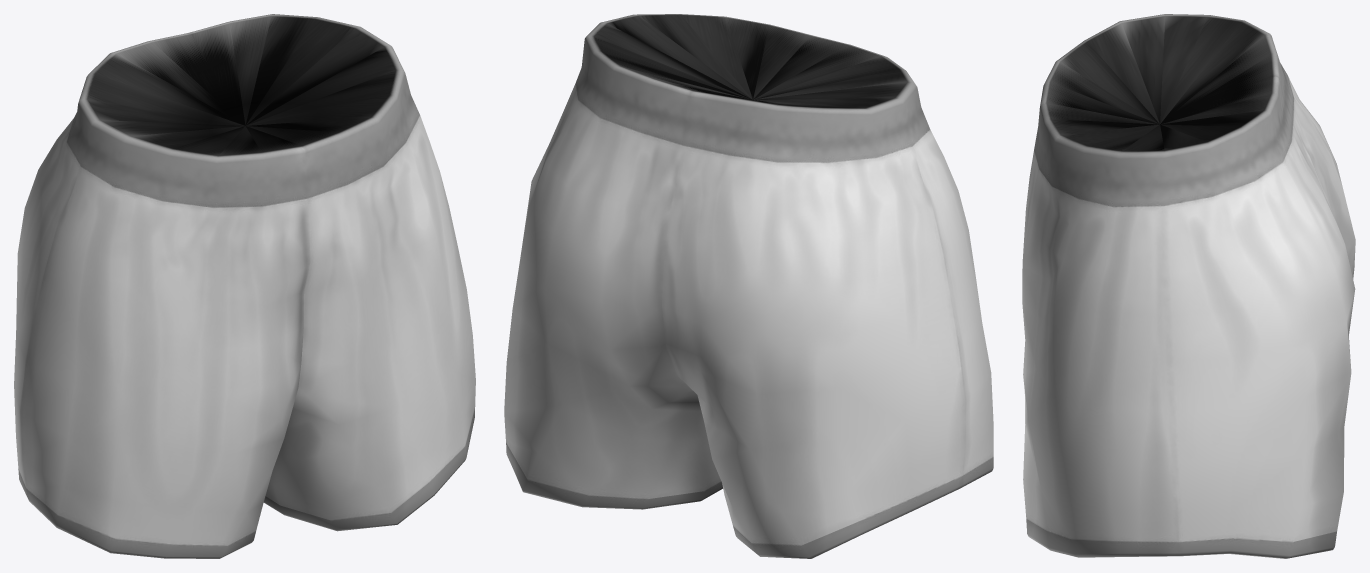
Rendered from v3_phr_female_UA_bottom_pants_shorts_sl_black.glb.
The picture shows the model from 3 angles, left to right: view 1: azimuth 30°, elevation 25°; view 2: azimuth 150°, elevation 25°; view 3: azimuth 270°, elevation 25°; orthographic projection.
Parts seen in each view (by area): view 1: UnionAvatars_Bottom; view 2: UnionAvatars_Bottom; view 3: UnionAvatars_Bottom.
Part boxes in pixels (<box>): UnionAvatars_Bottom: <box>14,14,475,558</box>; UnionAvatars_Bottom: <box>504,14,993,558</box>; UnionAvatars_Bottom: <box>1022,14,1355,558</box>.
Bounding box in the file's own units: 0.3869 × 0.3665 × 0.258.
1 material, 1 textured.
